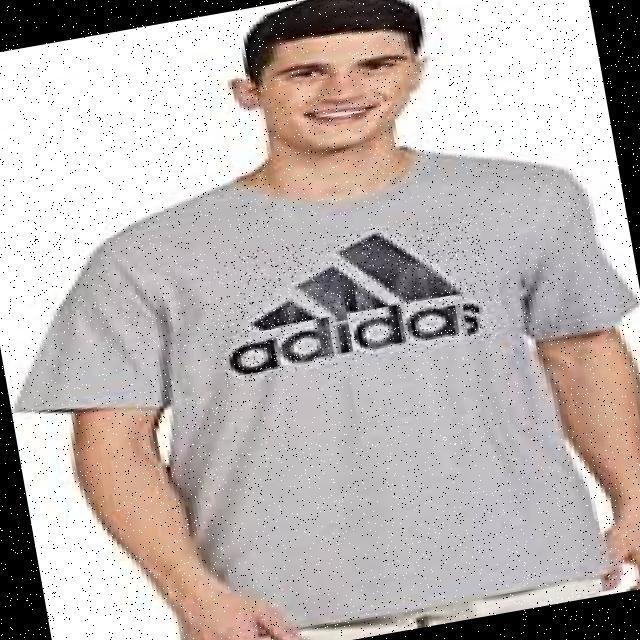Adidas: (214, 211, 498, 382)
